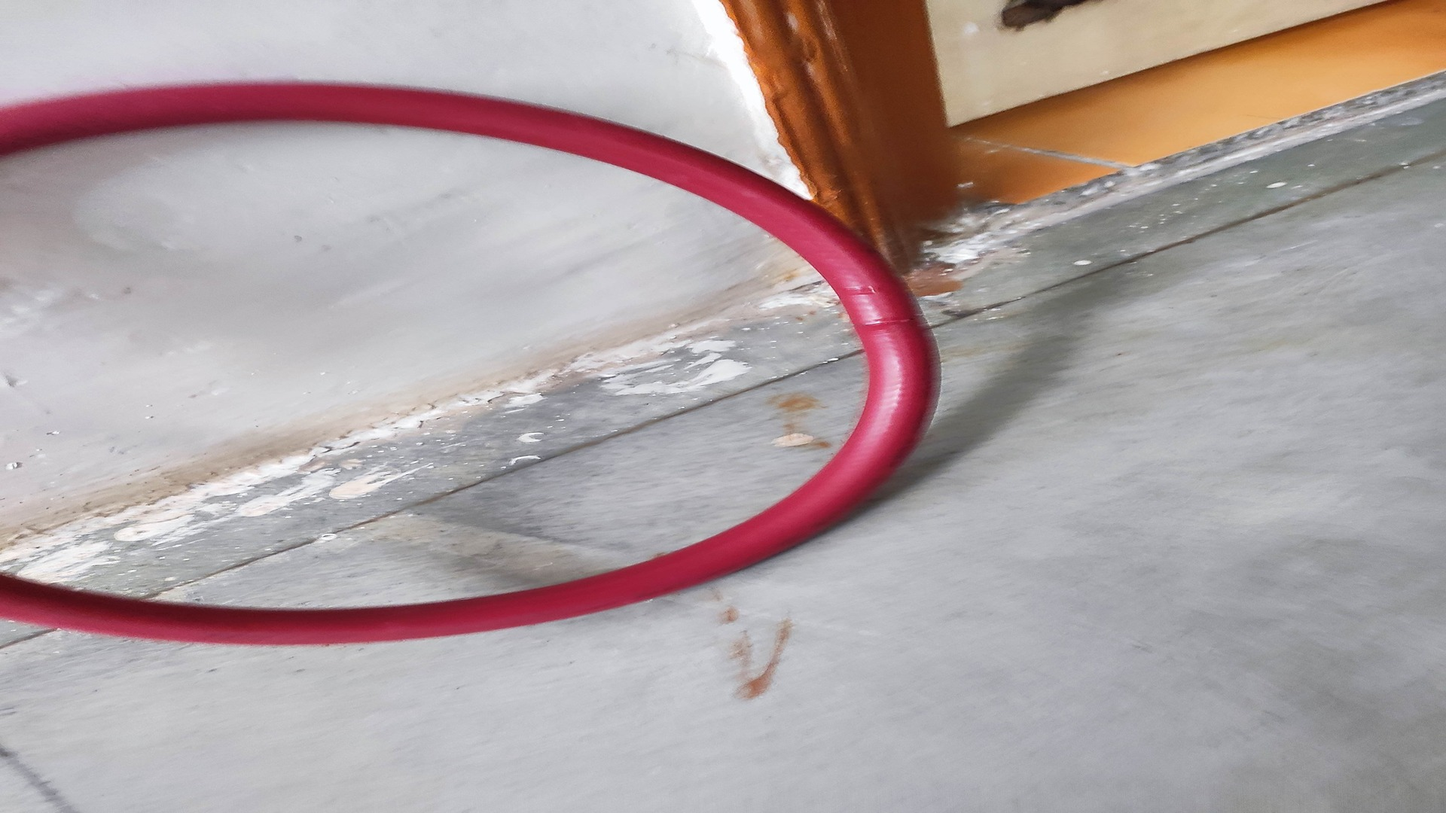Red ring: (21, 85, 924, 644)
